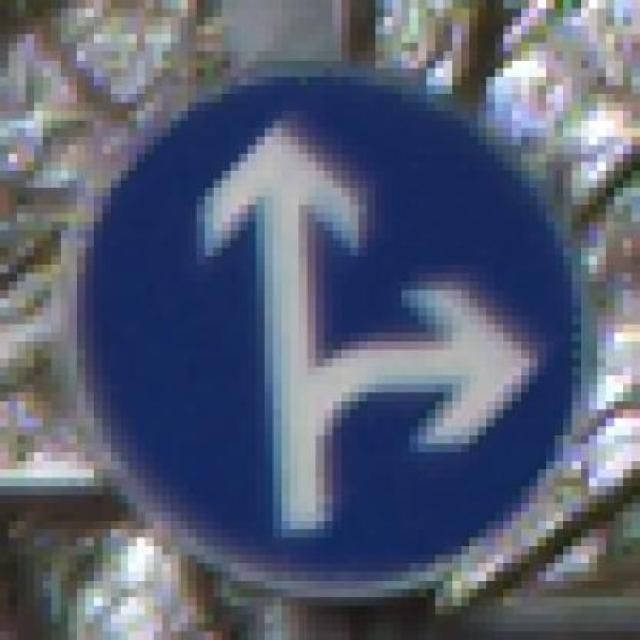Go Straight or Turn Right: (60, 76, 606, 598)
